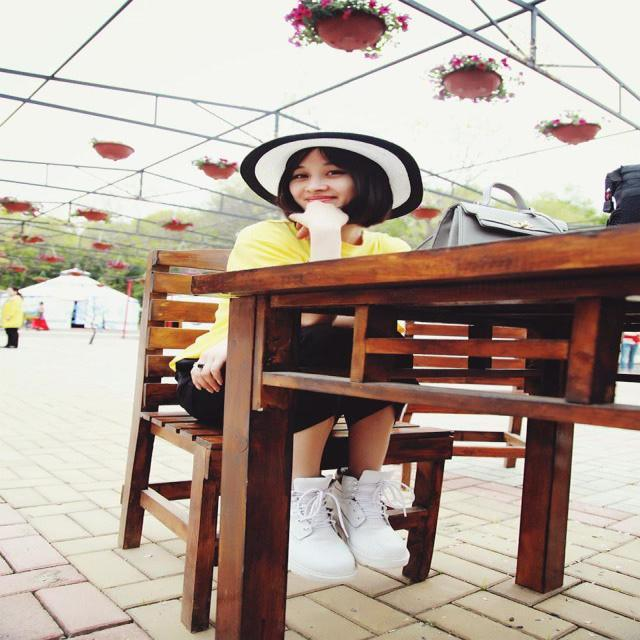short sleeve top: (171, 221, 411, 365)
trousers: (180, 329, 419, 433)
